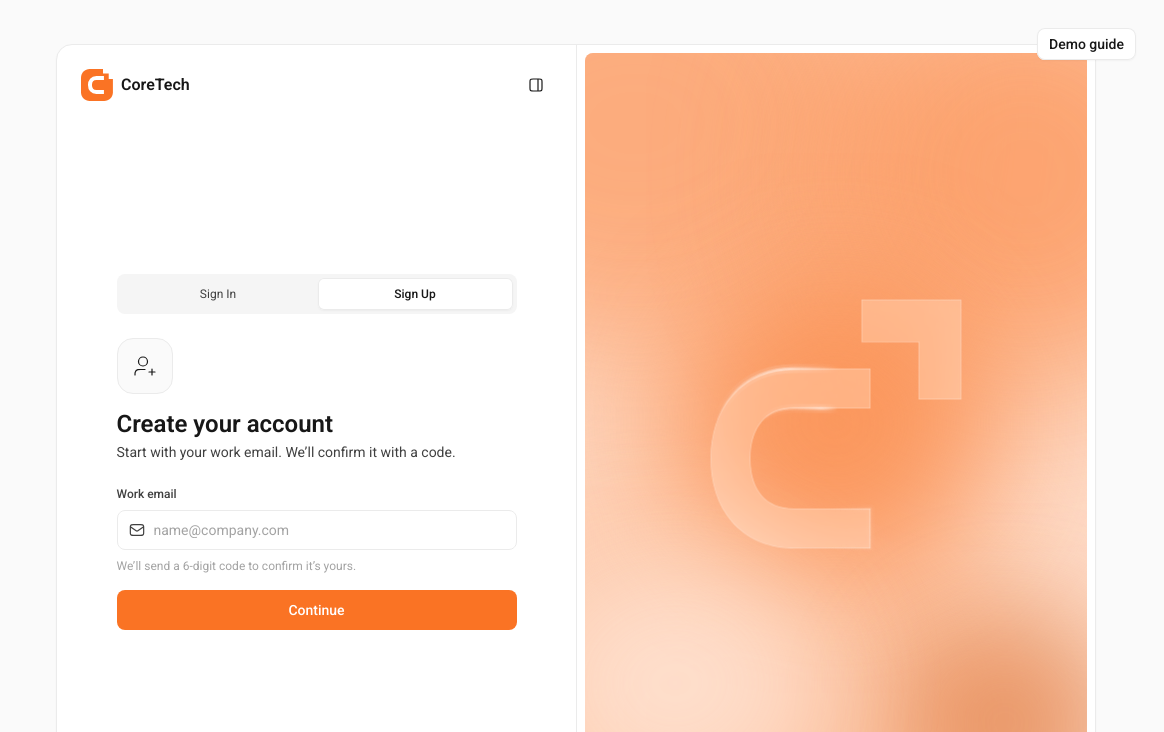
Test: guards the lookup-failed route without an email and keeps empty-profile scenarios removed
Click the button "Demo guide" at (1087, 44), box [1037, 28, 1136, 60]
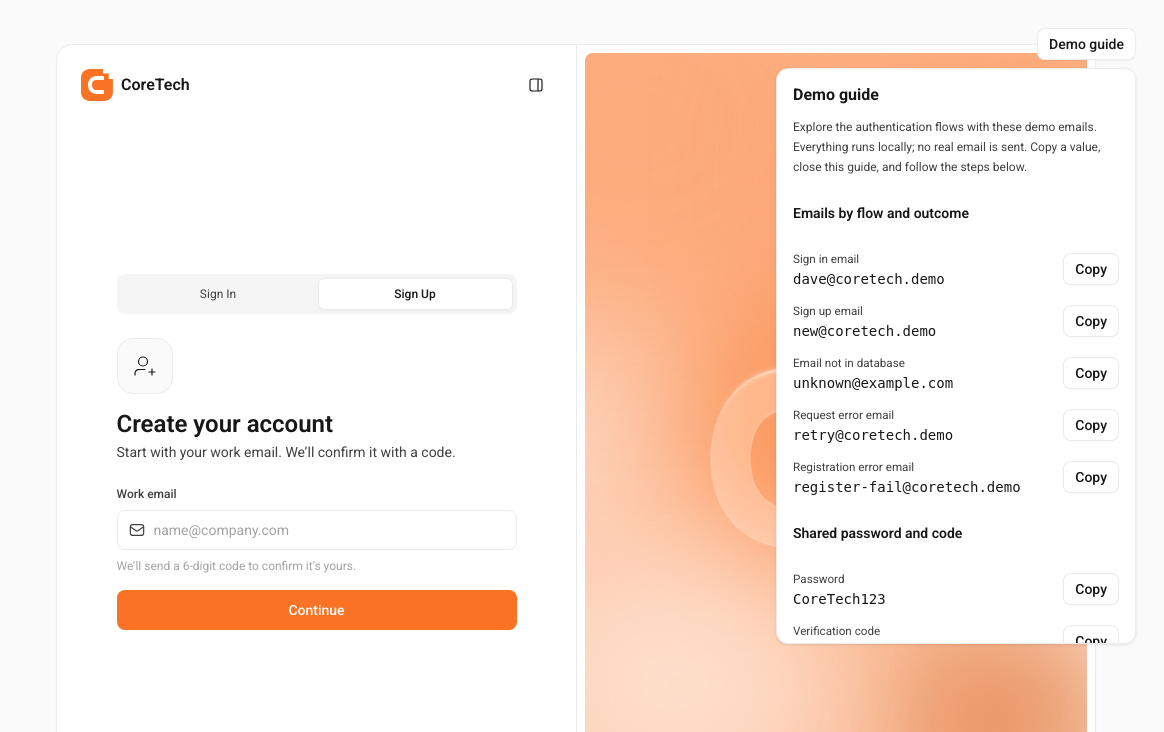
Result: the button with aria-label "Copy Email not in database" is shown at [1063, 357, 1119, 389]
